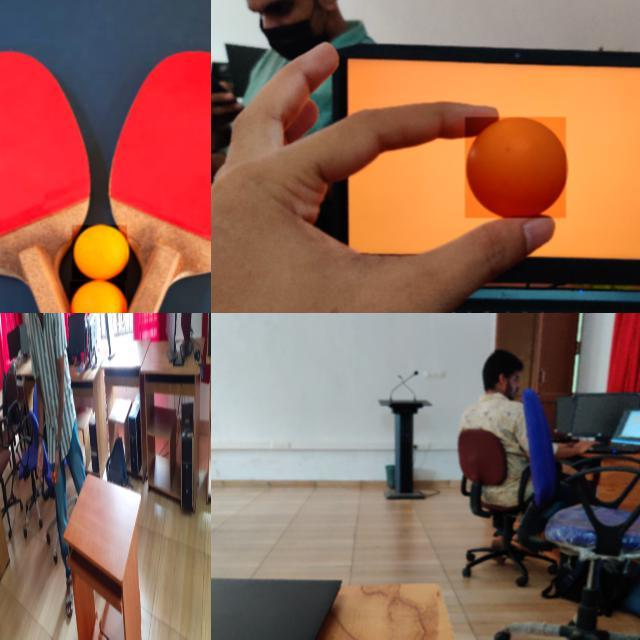ping-pong-ball: (465, 116, 567, 220), (72, 225, 128, 281), (70, 281, 127, 312), (52, 470, 54, 482)
